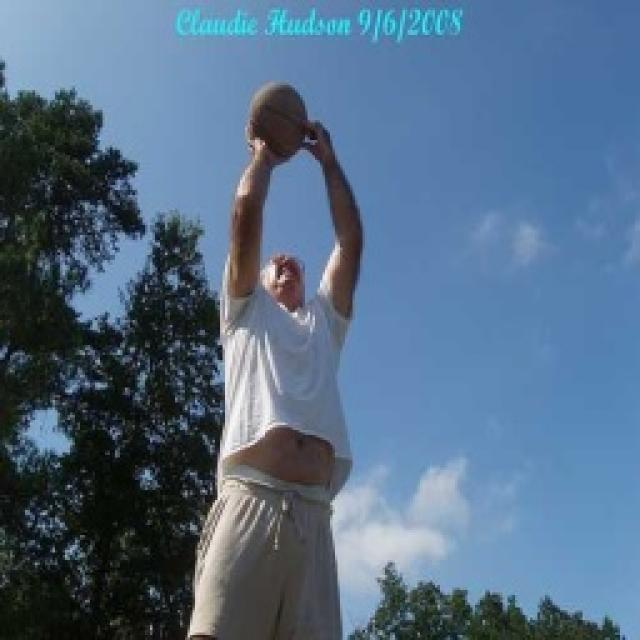rim: (238, 73, 316, 168)
